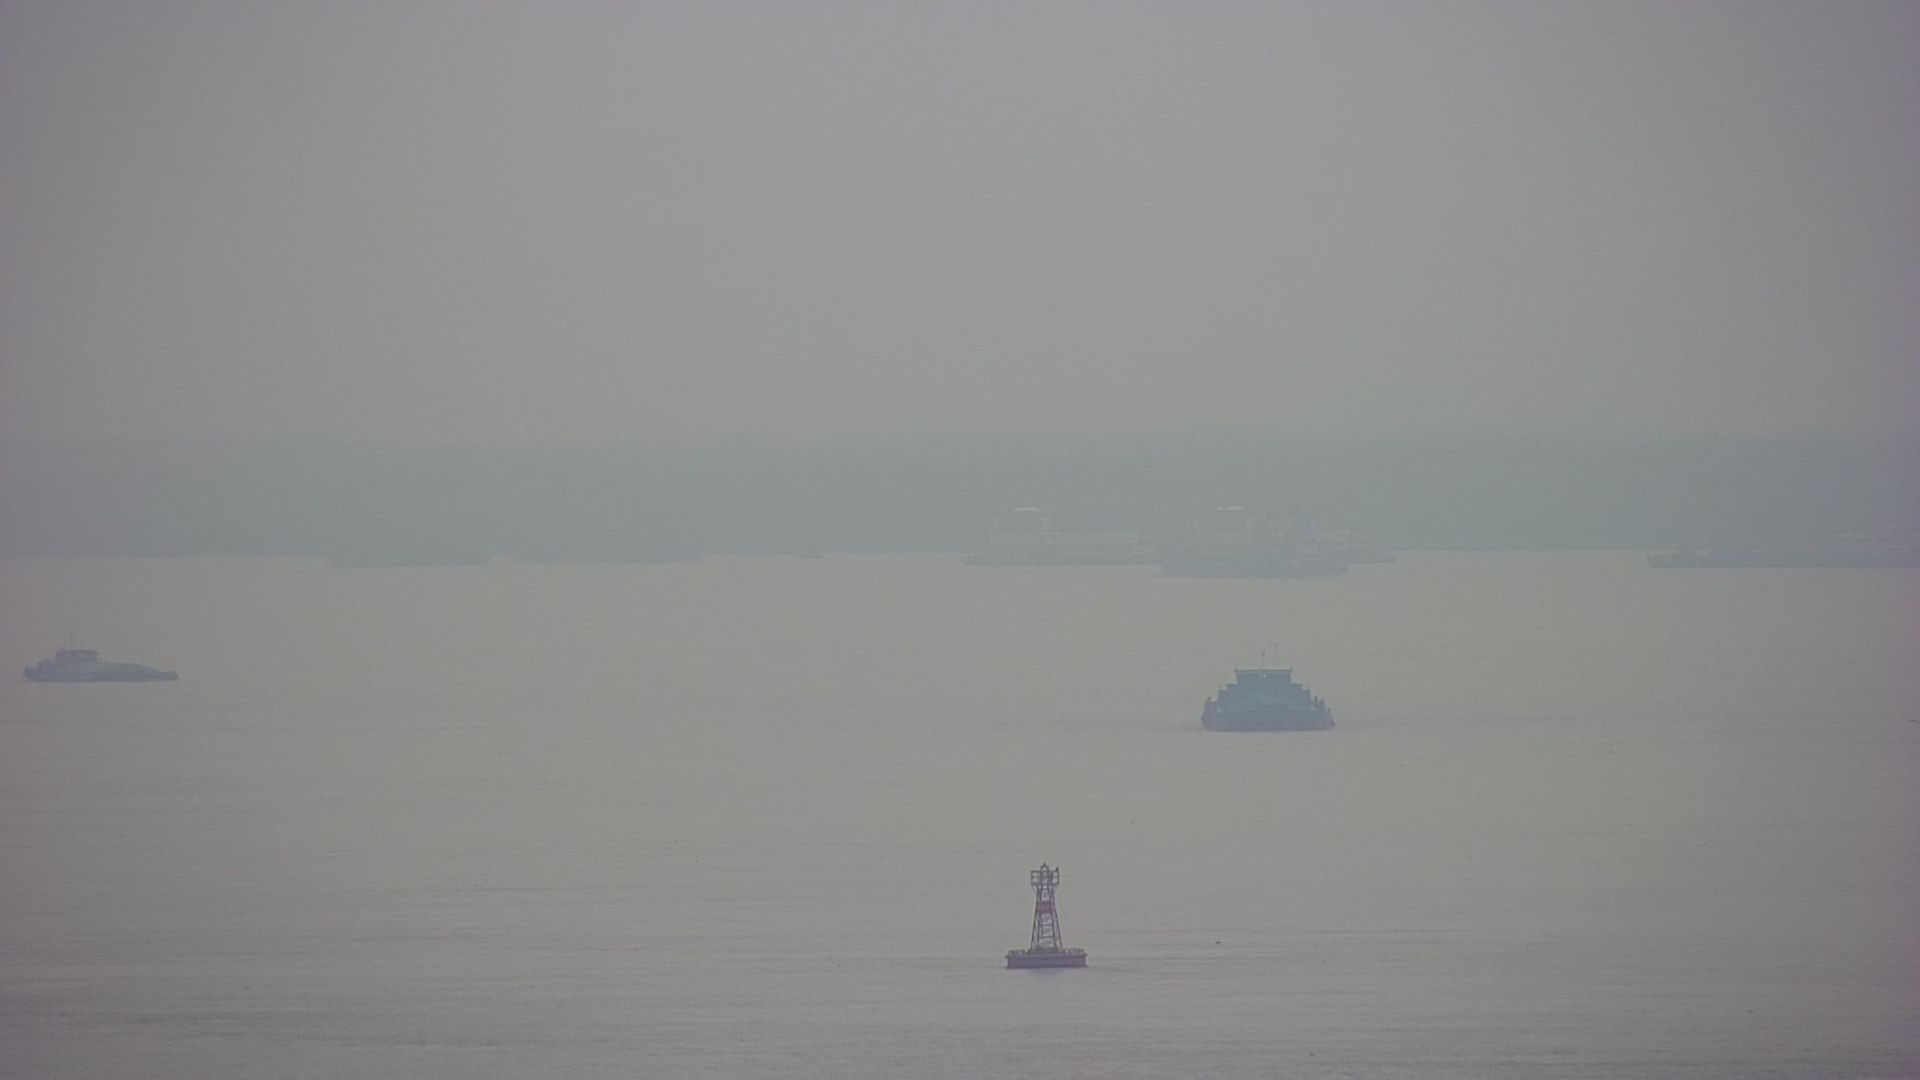buoy: (1009, 862, 1087, 968)
ship: (1193, 661, 1337, 733), (17, 636, 179, 686)
